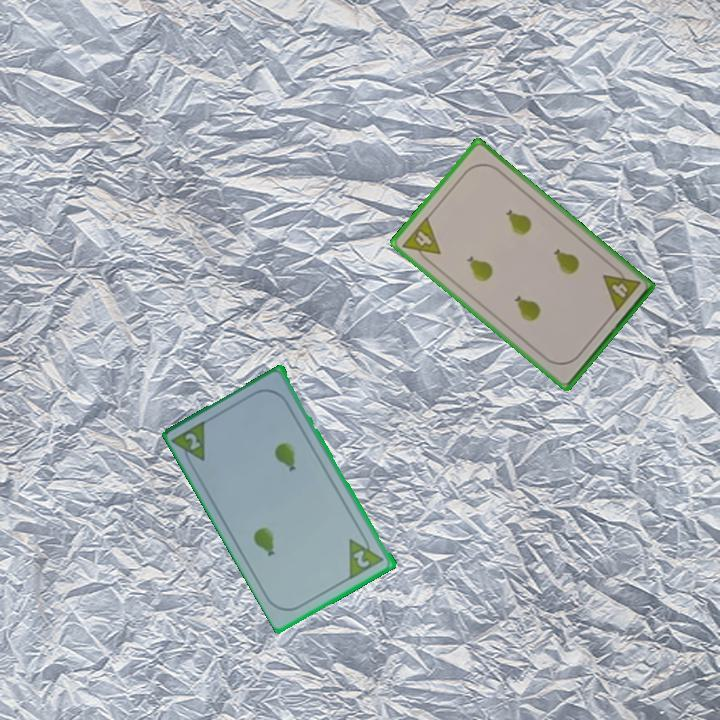2p: (345, 529, 387, 581), (182, 429, 204, 453)
4p: (399, 213, 444, 267), (599, 262, 643, 315)
